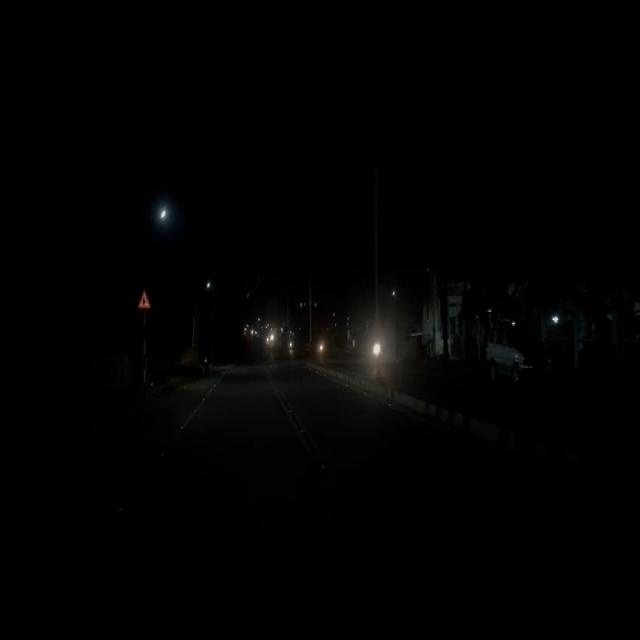bien_nguy_hiem: (137, 289, 150, 311)
